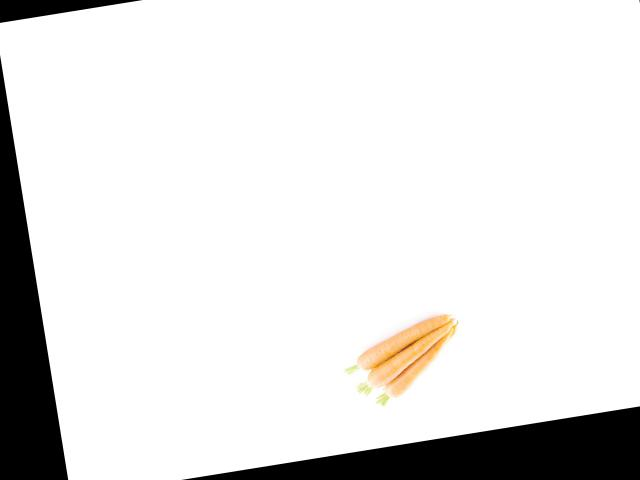carrot: (342, 311, 455, 375)
